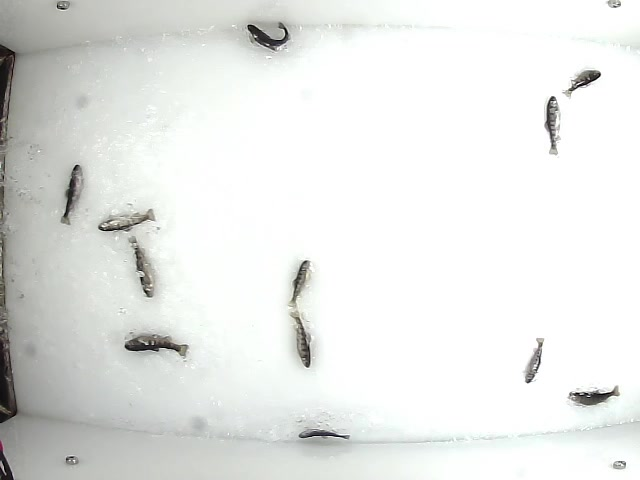fish: (124, 232, 157, 301), (121, 332, 190, 360), (56, 160, 83, 227), (95, 205, 157, 234), (538, 94, 564, 156), (287, 310, 313, 370), (247, 20, 293, 52), (284, 257, 310, 310), (521, 334, 547, 387), (561, 67, 601, 101), (566, 383, 621, 407), (296, 425, 351, 441)
